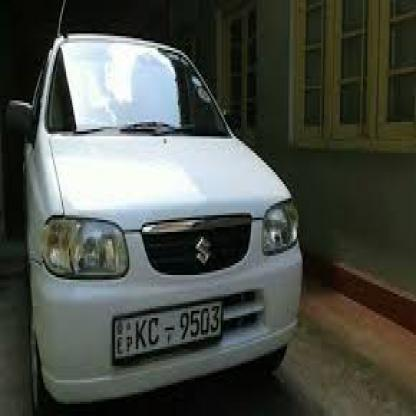car: (6, 28, 302, 414)
